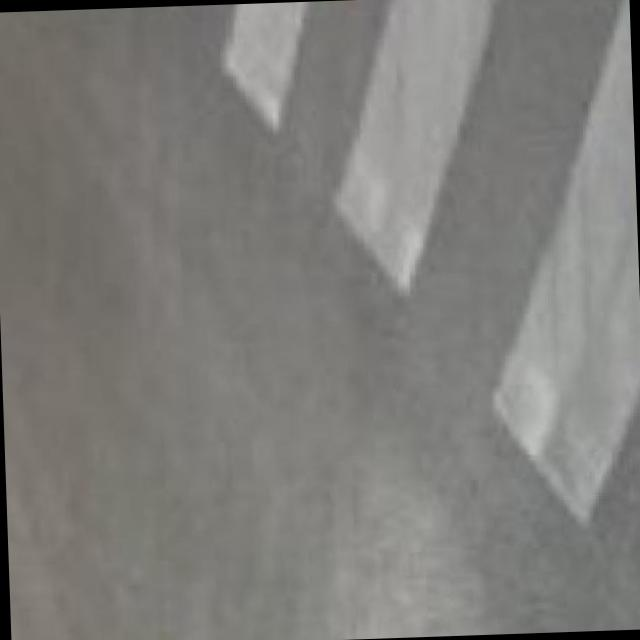zebra: (173, 0, 640, 531)
